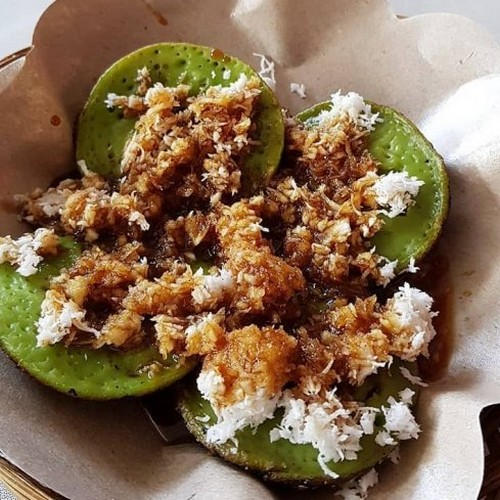laklak: (48, 56, 441, 468)
